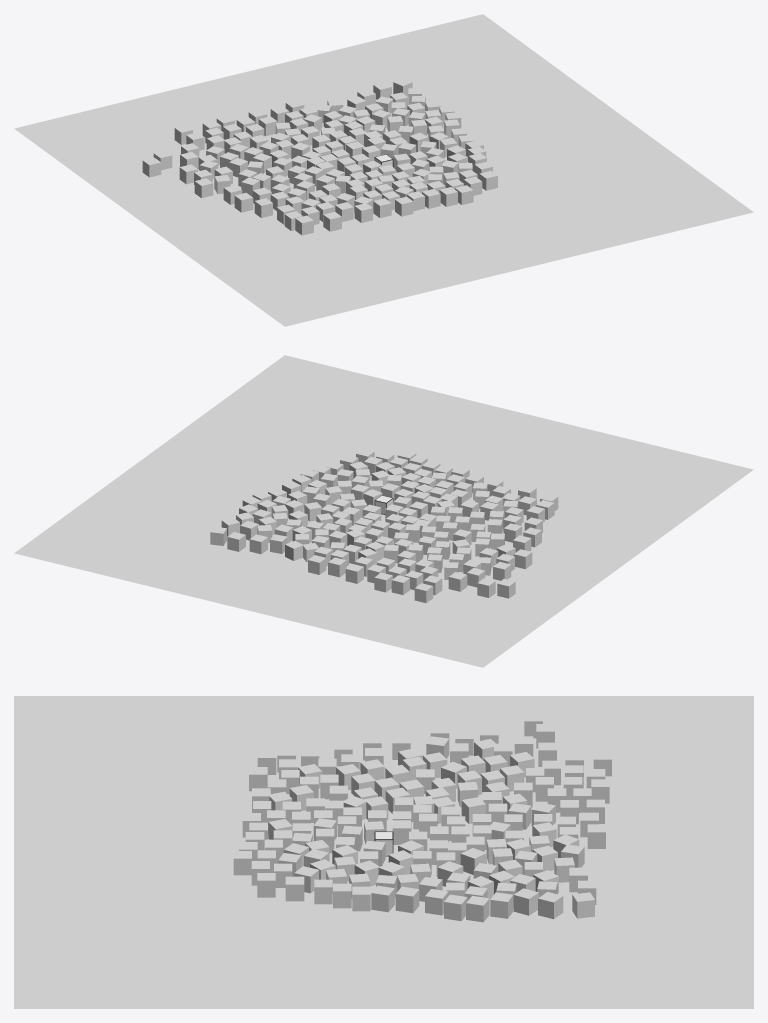
File: Start Menu Enviroinment.fbx
3 views of the same model, one above another, from view 1: azimuth 30°, elevation 25°; view 2: azimuth 150°, elevation 25°; view 3: azimuth 270°, elevation 25° (orthographic). The views are drawn at different scales.
Parts seen in each view (by area): view 1: Plane; view 2: Plane; view 3: Plane, light yellow dice.154, light yellow dice.183, light yellow dice.157, light yellow dice.155, light yellow dice.158, light yellow dice.162, light yellow dice.153, light yellow dice.164.
Boxes of the visible parts, box(x1,y1,x2,y2) form: Plane: box(14, 14, 753, 326); Plane: box(14, 355, 753, 667); Plane: box(14, 696, 753, 1008); light yellow dice.154: box(538, 892, 563, 919); light yellow dice.183: box(513, 888, 538, 915); light yellow dice.157: box(395, 886, 419, 913); light yellow dice.155: box(490, 892, 513, 918); light yellow dice.158: box(371, 885, 394, 912); light yellow dice.162: box(466, 896, 489, 922); light yellow dice.153: box(572, 892, 594, 918); light yellow dice.164: box(444, 894, 467, 921).
Bounding box in the file's own units: 2000 × 50 × 2000.
